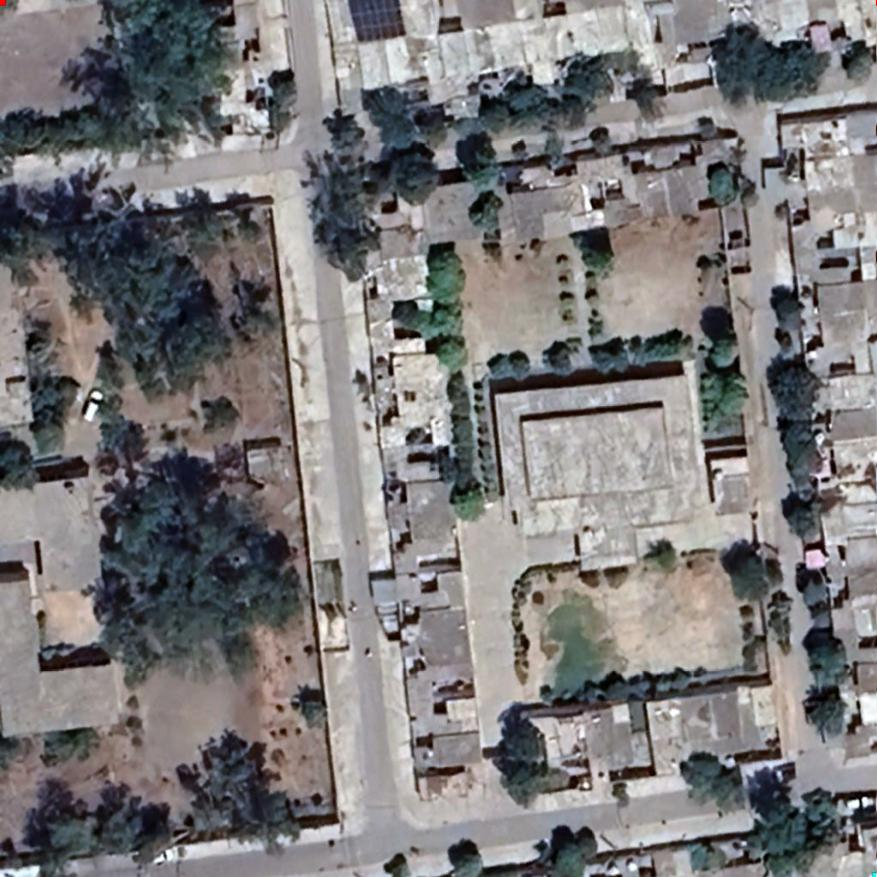Solarpanel: (340, 1, 413, 49)
